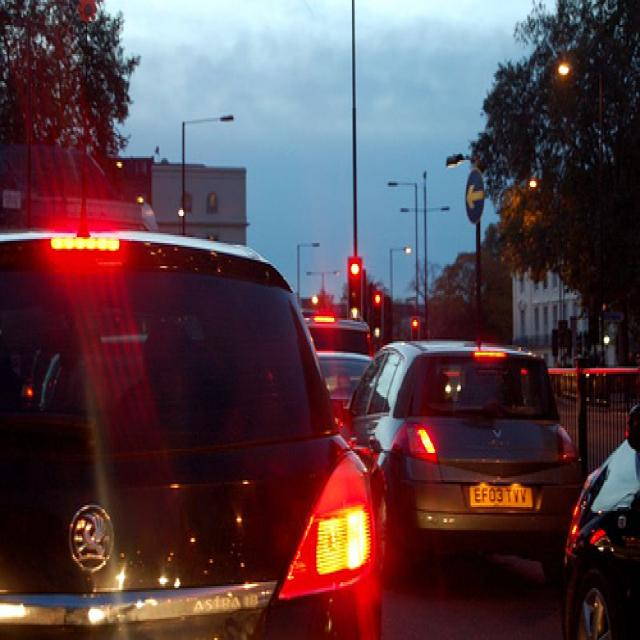Vehicle: (0, 234, 386, 633), (346, 332, 576, 570), (556, 404, 640, 621), (302, 312, 371, 423)
